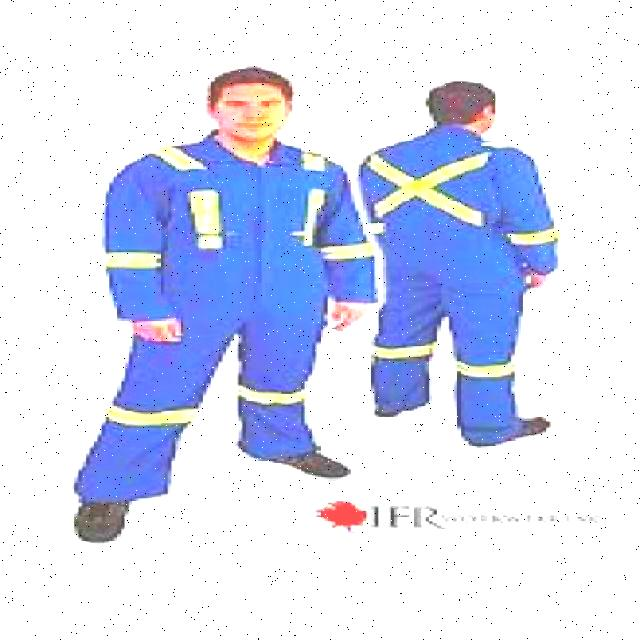Mask: (78, 132, 371, 443), (360, 128, 582, 394)
